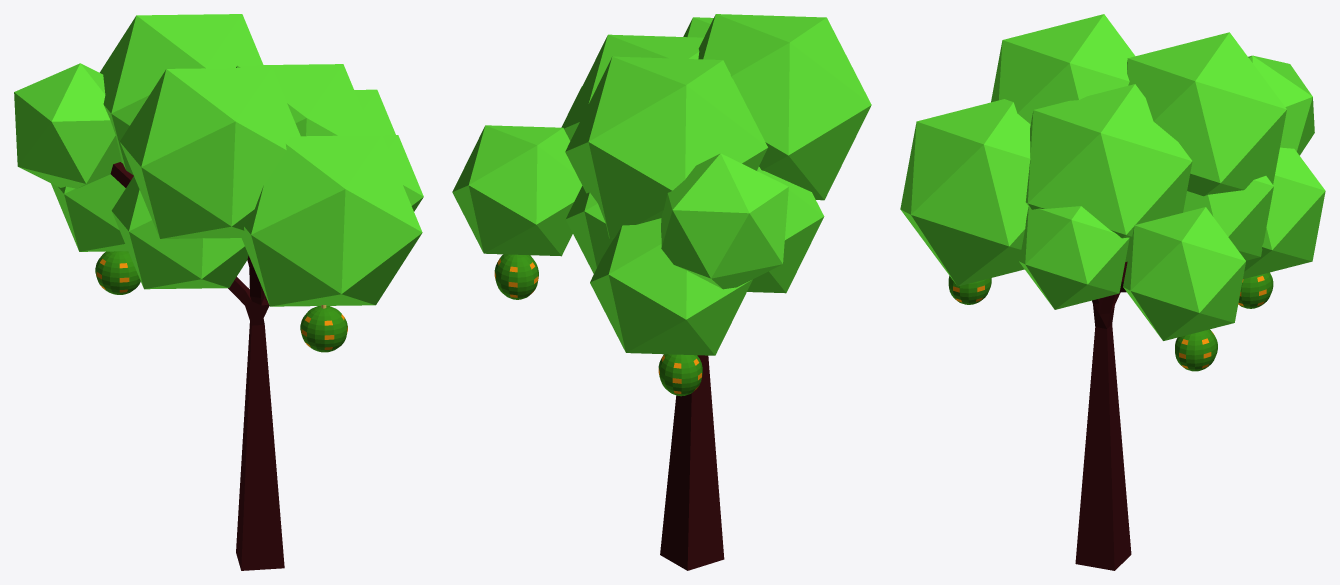
Rendered from Green_Tree.fbx.
3 renders of one model, left to right at view 1: azimuth 30°, elevation 25°; view 2: azimuth 150°, elevation 25°; view 3: azimuth 270°, elevation 25°, orthographic. The views are drawn at different scales.
Visible parts, largest first — view 1: Icosphere.005, Icosphere.002, Icosphere, Icosphere.009, Cube, Icosphere.008, Icosphere.006, Icosphere.001, Sphere.013, Sphere.010, Icosphere.004, Icosphere.003; view 2: Icosphere.009, Icosphere.002, Icosphere.003, Icosphere, Icosphere.001, Cube, Icosphere.006, Icosphere.008, Icosphere.007, Sphere.012, Sphere.010; view 3: Icosphere.005, Icosphere.006, Icosphere.009, Icosphere.003, Cube, Icosphere.002, Icosphere.004, Icosphere.001, Icosphere.007, Icosphere, Sphere.012, Sphere.010 (+1 smaller).
Boxes of the visible parts, box(x1,y1,x2,y2) form: Icosphere.005: box(241, 135, 422, 306); Icosphere.002: box(119, 67, 300, 238); Icosphere: box(14, 63, 121, 188); Icosphere.009: box(99, 14, 263, 174); Cube: box(110, 162, 284, 570); Icosphere.008: box(111, 176, 248, 289); Icosphere.006: box(236, 64, 372, 136); Icosphere.001: box(51, 174, 127, 251); Sphere.013: box(300, 305, 347, 352); Sphere.010: box(95, 251, 140, 294); Icosphere.004: box(382, 135, 423, 211); Icosphere.003: box(354, 89, 395, 135); Icosphere.009: box(565, 56, 767, 239); Icosphere.002: box(698, 14, 871, 200); Icosphere.003: box(452, 125, 582, 256); Icosphere: box(661, 153, 788, 289); Icosphere.001: box(590, 218, 752, 355); Cube: box(660, 355, 724, 570); Icosphere.006: box(562, 34, 703, 140); Icosphere.008: box(747, 167, 824, 293); Icosphere.007: box(565, 186, 612, 273); Sphere.012: box(494, 254, 538, 299); Sphere.010: box(658, 354, 702, 396); Icosphere.005: box(900, 99, 1030, 286); Icosphere.006: box(1025, 84, 1192, 261); Icosphere.009: box(1127, 32, 1286, 196); Icosphere.003: box(1123, 207, 1245, 340); Cube: box(1075, 261, 1131, 570); Icosphere.002: box(991, 14, 1135, 123); Icosphere.004: box(1018, 206, 1129, 309); Icosphere.001: box(1243, 147, 1325, 279); Icosphere.007: box(1183, 176, 1273, 260); Icosphere: box(1248, 55, 1314, 155); Sphere.012: box(1175, 329, 1217, 371); Sphere.010: box(1238, 272, 1273, 308).
Size of the model in its own units: 675 by 963 by 741.
